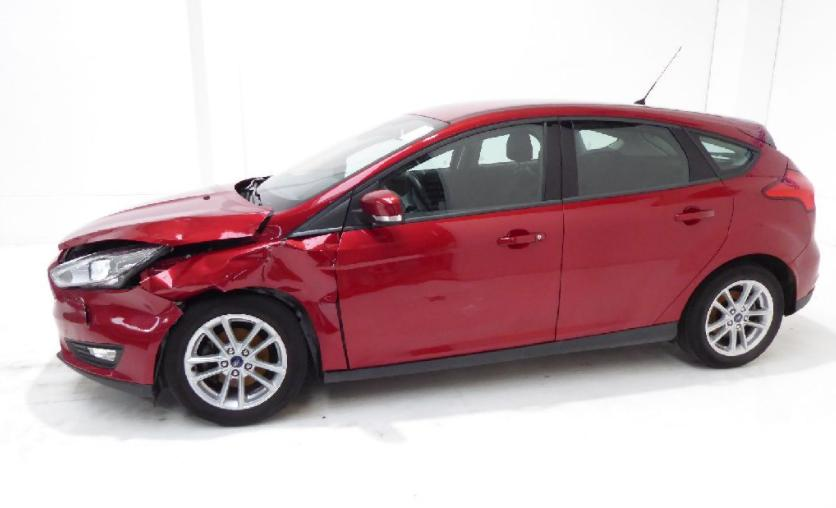Back-bumper: (788, 210, 821, 311)
Back-door: (556, 115, 733, 340)
Back-wheel: (680, 262, 784, 368)
Back-window: (572, 120, 689, 196), (694, 133, 758, 177)
Fender: (140, 233, 347, 371)
Front-bumper: (48, 272, 183, 401)
Front-door: (337, 117, 563, 367)
Front-wheel: (165, 292, 308, 427)
Front-window: (383, 126, 543, 218)
Headlight: (50, 247, 168, 288)
Hood: (60, 189, 270, 248)
Mirror: (363, 190, 404, 222)
Quarter-panel: (656, 158, 811, 324)
Rocker-panel: (324, 322, 678, 383)
Roof: (409, 97, 731, 125)
Tail-light: (765, 170, 816, 211)
Trunk: (722, 115, 775, 148), (788, 160, 804, 175)
Windshield: (252, 113, 446, 211)
